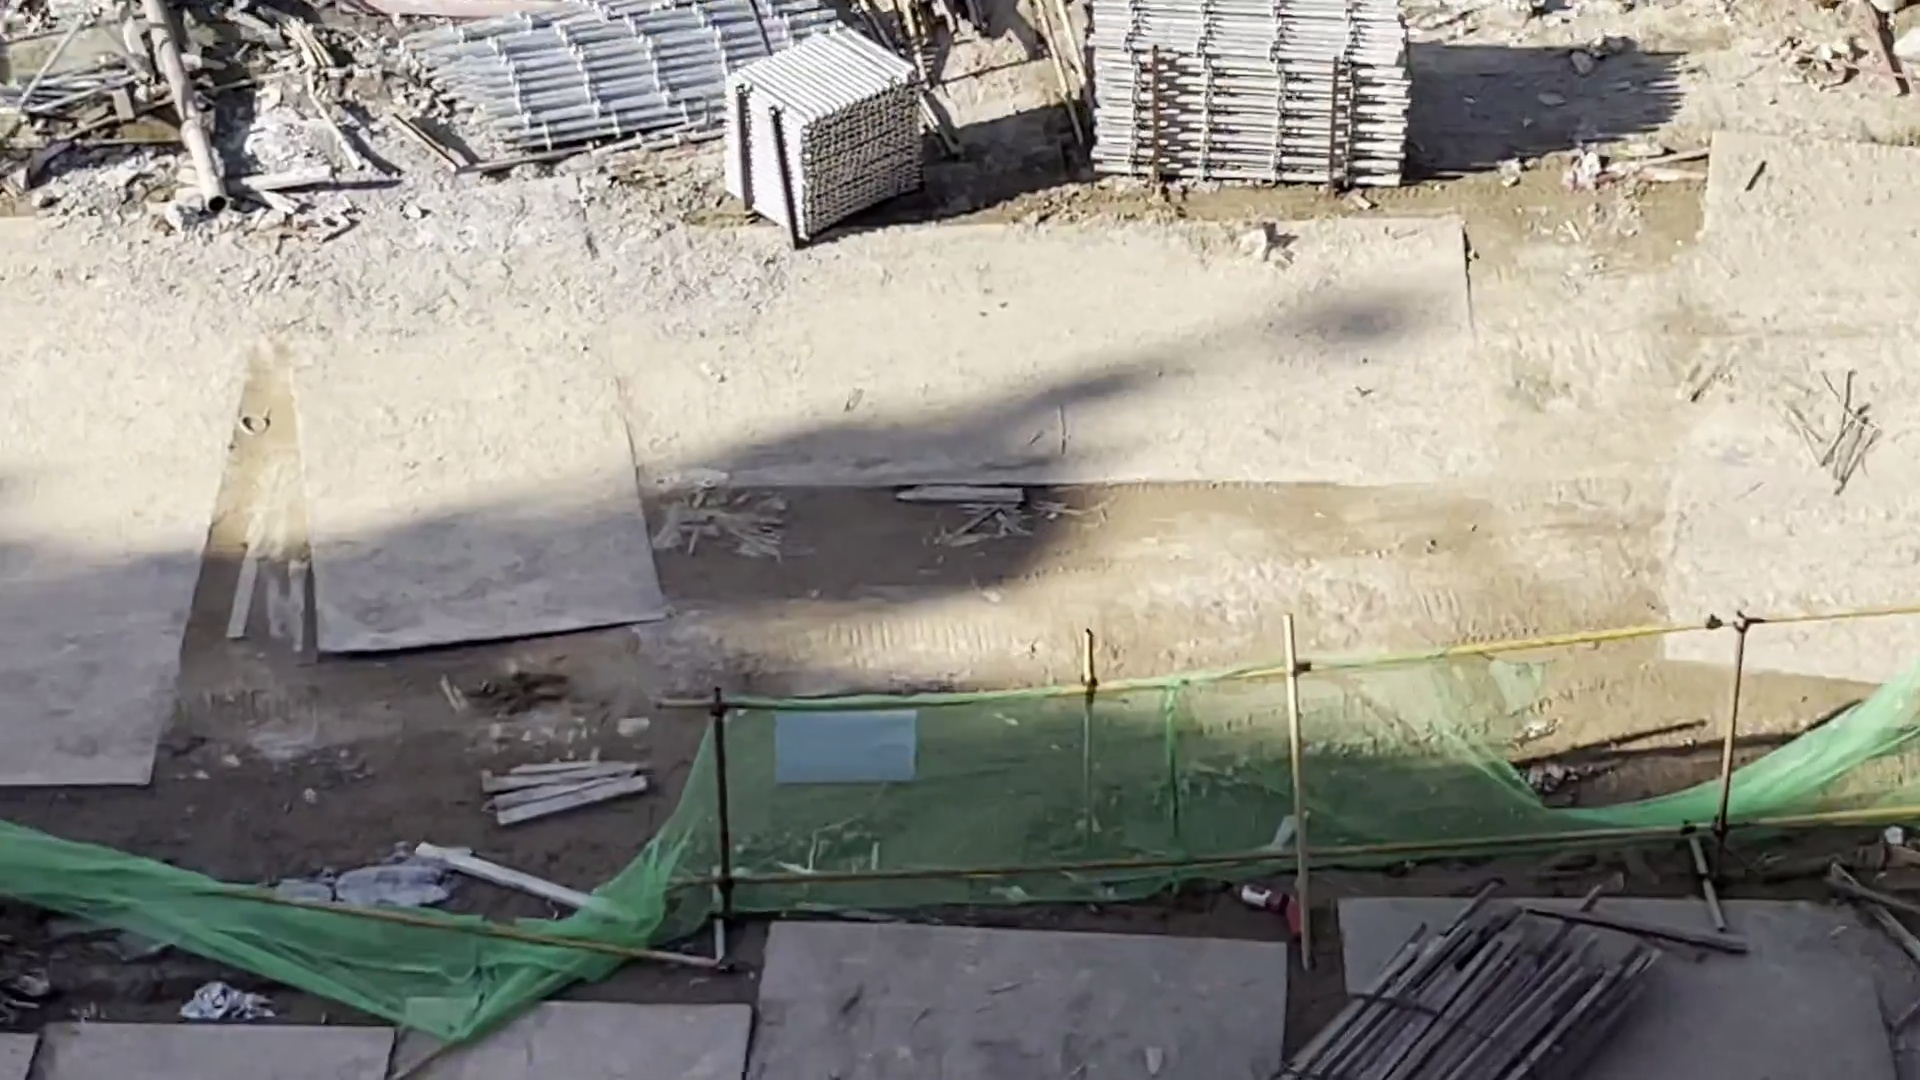scaffold: (434, 1, 851, 156), (1077, 9, 1423, 177), (741, 54, 923, 219)
